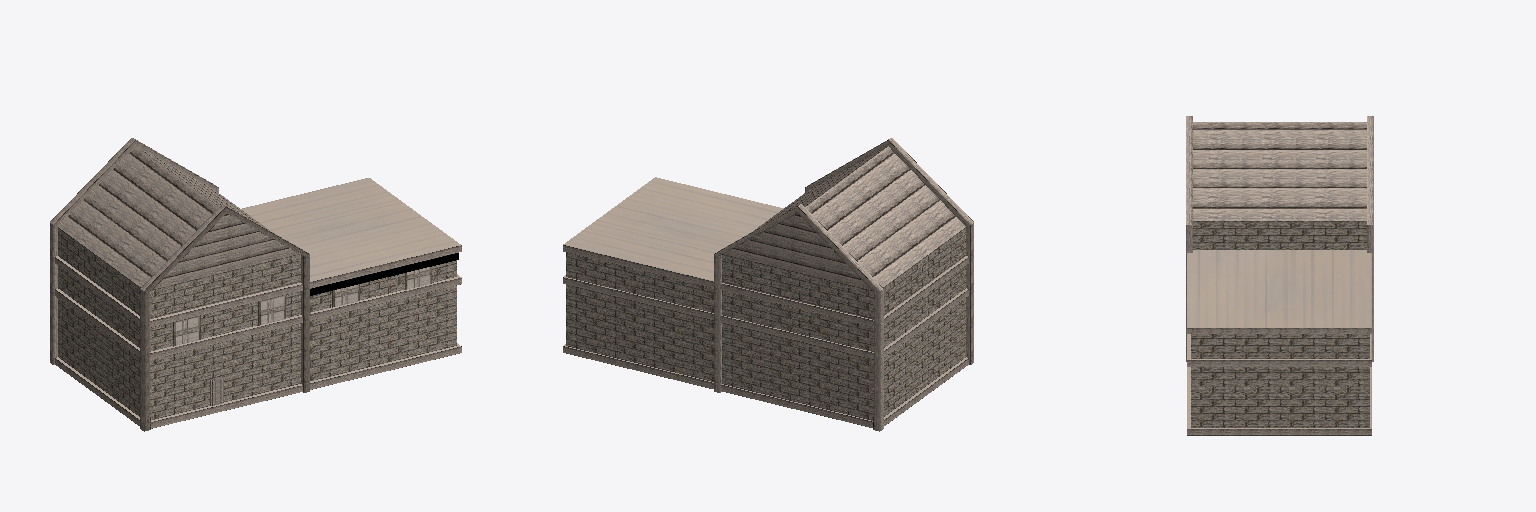
The picture shows the model from 3 angles: view 1: azimuth 30°, elevation 25°; view 2: azimuth 150°, elevation 25°; view 3: azimuth 270°, elevation 25°; orthographic projection.
Visible parts, largest first — view 1: Plane.002; view 2: Plane.002; view 3: Plane.002.
Part boxes in pixels (bbox=[...]): Plane.002: bbox=[50, 138, 461, 431]; Plane.002: bbox=[563, 138, 973, 431]; Plane.002: bbox=[1186, 116, 1373, 435].
Bounding box in the file's own units: 8.64 × 5.34 × 4.44.
Materials: 1 (1 with a texture image).